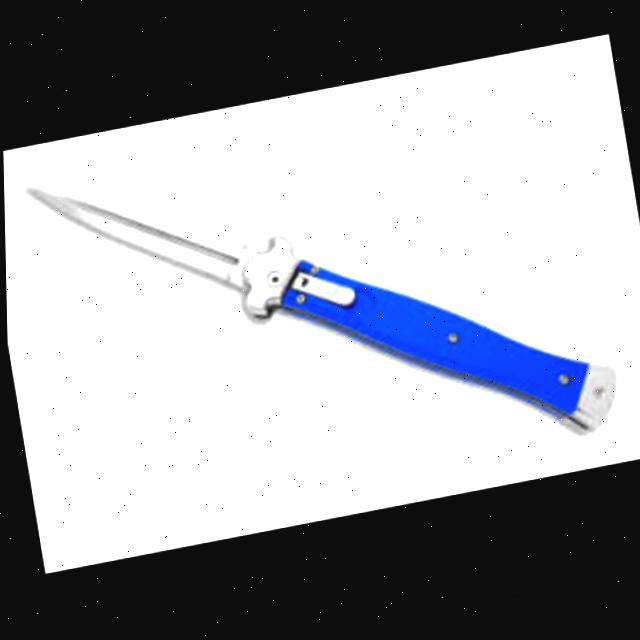Knife: (18, 79, 623, 532)
